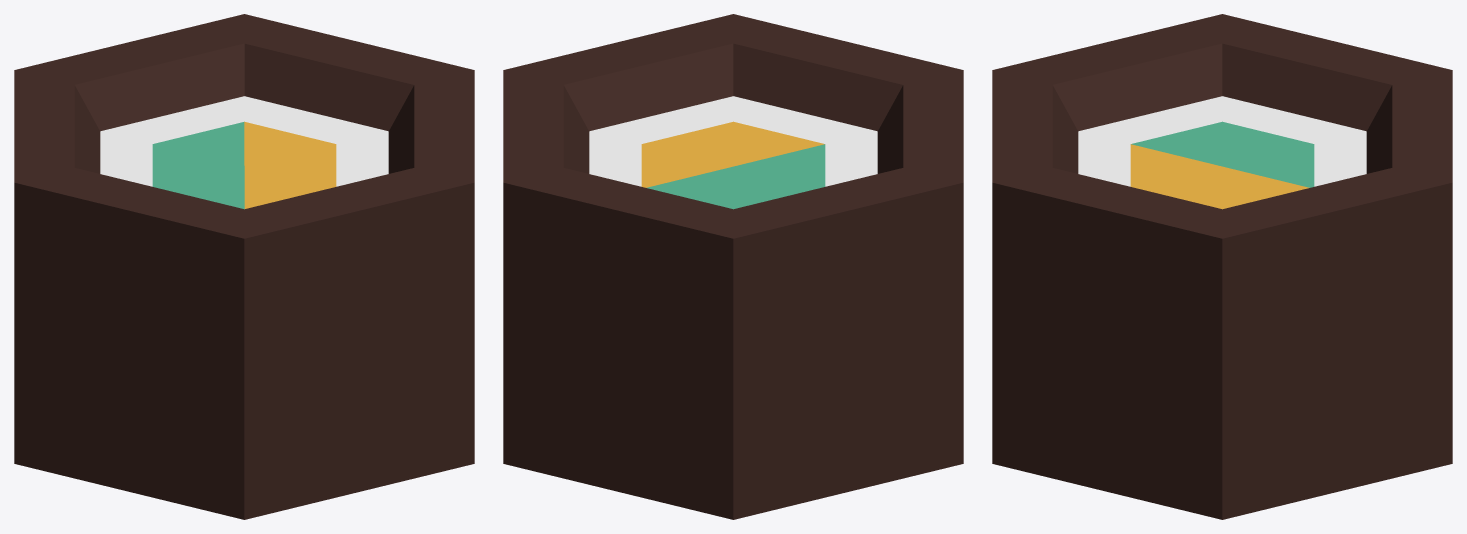
File: makiVegetable.fbx
3 renders of one model, left to right at view 1: azimuth 30°, elevation 25°; view 2: azimuth 150°, elevation 25°; view 3: azimuth 270°, elevation 25°, orthographic.
Visible parts, largest first — view 1: makiVegetable; view 2: makiVegetable; view 3: makiVegetable.
Boxes of the visible parts, <box> form: makiVegetable: <box>14,14,474,519</box>; makiVegetable: <box>503,14,963,519</box>; makiVegetable: <box>992,14,1452,519</box>.
Size of the model in its own units: 1.2 by 0.7 by 1.04.
